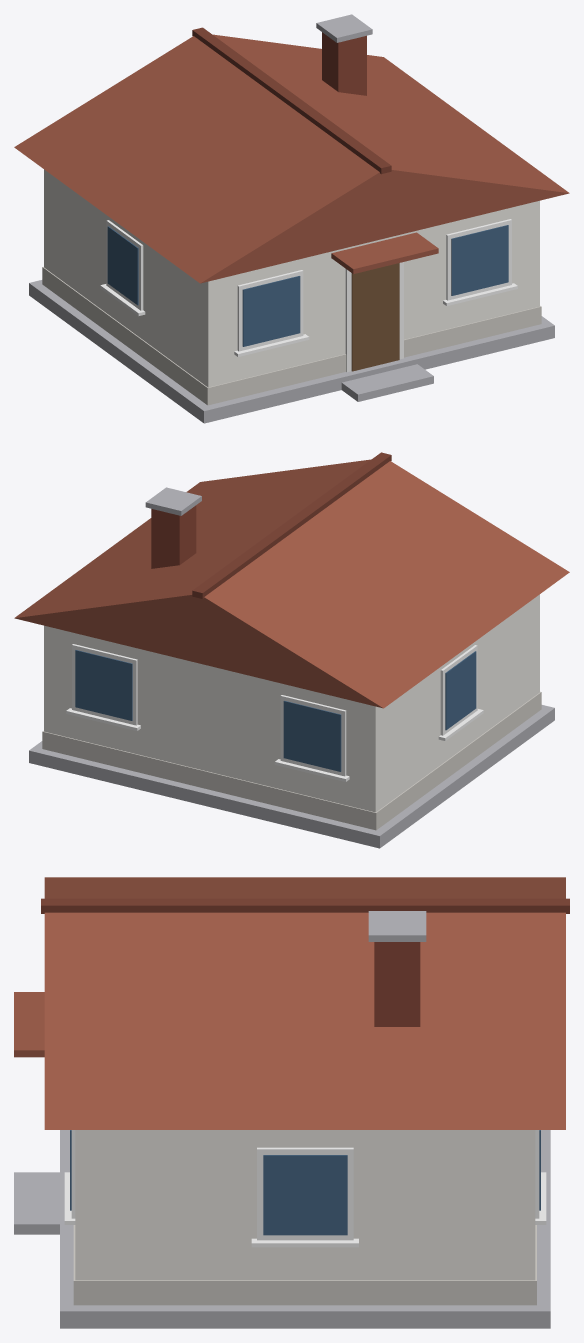
Rendered from house.glb.
3 renders of one model, top to bottom at view 1: azimuth 30°, elevation 25°; view 2: azimuth 150°, elevation 25°; view 3: azimuth 270°, elevation 25°, orthographic. The views are drawn at different scales.
Visible parts, largest first — view 1: roof, walls, slab, plinth, door, win_front_0_glass, win_front_1_glass, ridge, canopy, chimney, step, win_left_glass (+5 smaller); view 2: roof, walls, slab, plinth, win_back_0_glass, win_back_1_glass, ridge, chimney, win_left_glass, win_back_0_frame, win_back_1_frame, chimney_cap (+1 smaller); view 3: roof, walls, slab, plinth, ridge, win_right_glass, chimney, step, win_right_frame, canopy, chimney_cap, win_right_sill.
Part boxes in pixels (x1,y1,x2,y2): roof: [14, 34, 569, 283]; walls: [44, 169, 539, 387]; slab: [29, 280, 554, 423]; plinth: [42, 267, 541, 405]; door: [351, 263, 399, 371]; win_front_0_glass: [242, 276, 300, 346]; win_front_1_glass: [451, 225, 508, 295]; ridge: [192, 27, 391, 174]; canopy: [331, 232, 438, 273]; chimney: [322, 32, 366, 95]; step: [341, 364, 433, 401]; win_left_glass: [107, 226, 138, 305]; roof: [14, 459, 569, 708]; walls: [44, 594, 539, 812]; slab: [29, 705, 554, 848]; plinth: [42, 691, 541, 830]; win_back_0_glass: [283, 700, 341, 771]; win_back_1_glass: [75, 650, 132, 720]; ridge: [192, 452, 391, 598]; chimney: [151, 505, 196, 568]; win_left_glass: [445, 651, 476, 730]; win_back_0_frame: [280, 695, 346, 776]; win_back_1_frame: [72, 644, 137, 725]; chimney_cap: [145, 487, 201, 515]; roof: [44, 877, 565, 1129]; walls: [75, 1130, 535, 1280]; slab: [60, 1130, 550, 1328]; plinth: [73, 1225, 536, 1305]; ridge: [41, 898, 569, 913]; win_right_glass: [263, 1155, 347, 1235]; chimney: [374, 942, 420, 1026]; step: [14, 1172, 59, 1234]; win_right_frame: [257, 1147, 353, 1240]; canopy: [14, 992, 44, 1057]; chimney_cap: [368, 911, 426, 941]; win_right_sill: [251, 1238, 358, 1247].
Bounding box in the file's own units: 7.8 × 4.95 × 7.25.
